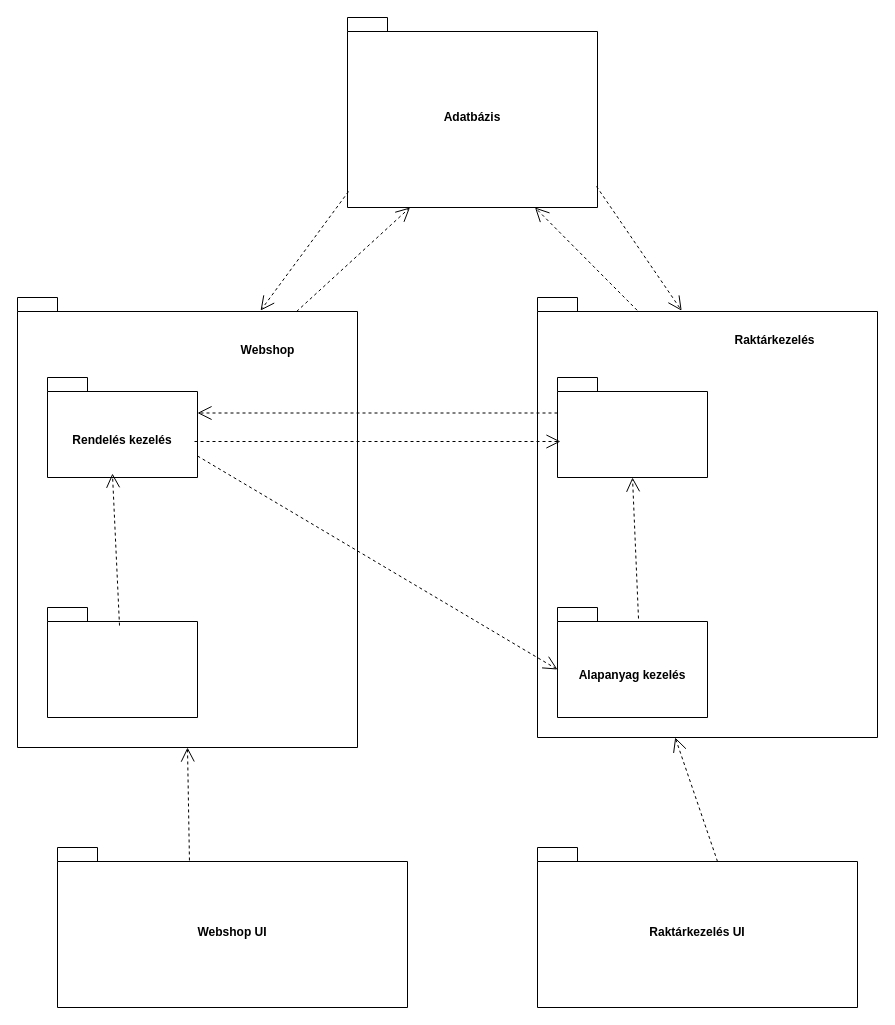
This 895x1025 diagram has some shape labels left out. Each missing label, with the centre of its shape:
"Fizetés kezelés" belongs at [122,662].
"Termék kezelés" belongs at [632,427].
